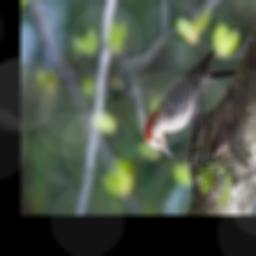Woodpecker: (145, 51, 238, 160)
